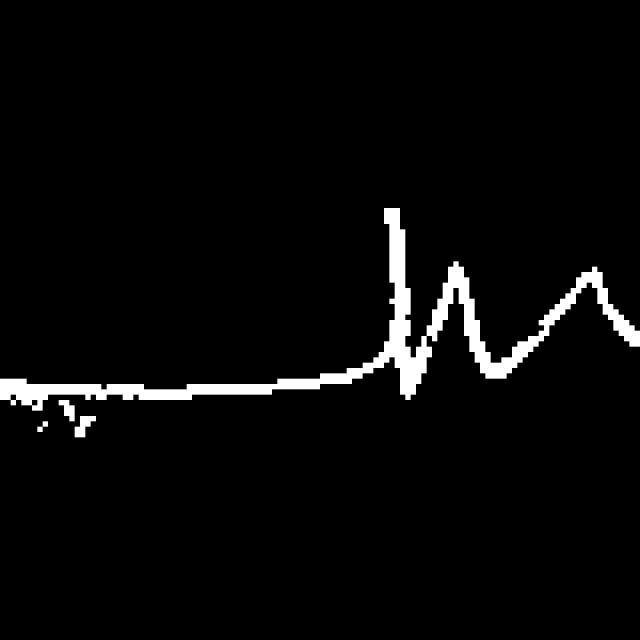resistor: (372, 197, 617, 411)
